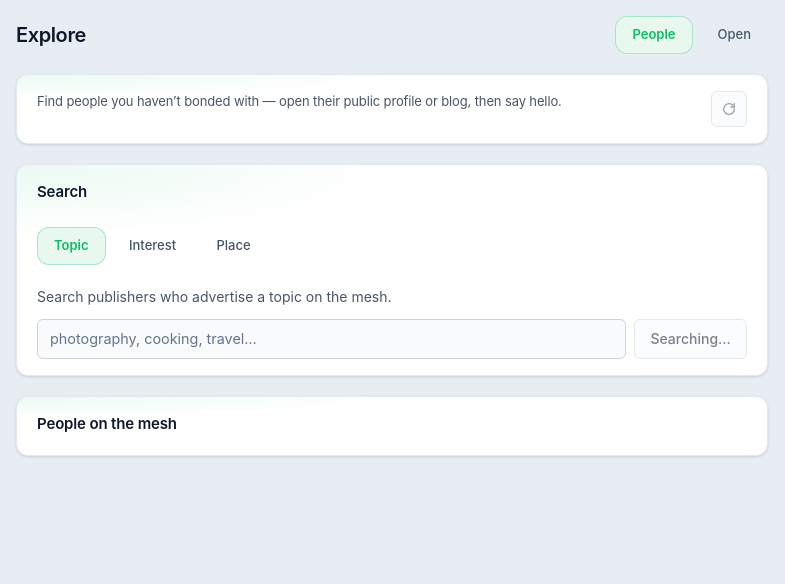
Test case: BrowserView › renders peer Feed index with Feed card chrome (not raw markdown)
Click the tab with test id "browser-mode-open": (734,35) [700, 16, 768, 54]
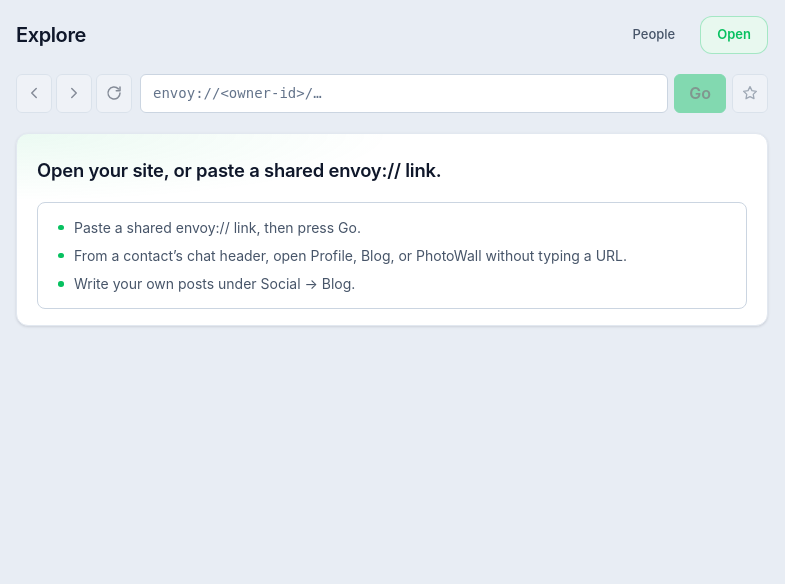
In the field with test id "browser-address-bar": (404,93) [140, 74, 668, 112], type "envoy://envoy:owner:abc123/feeds/"
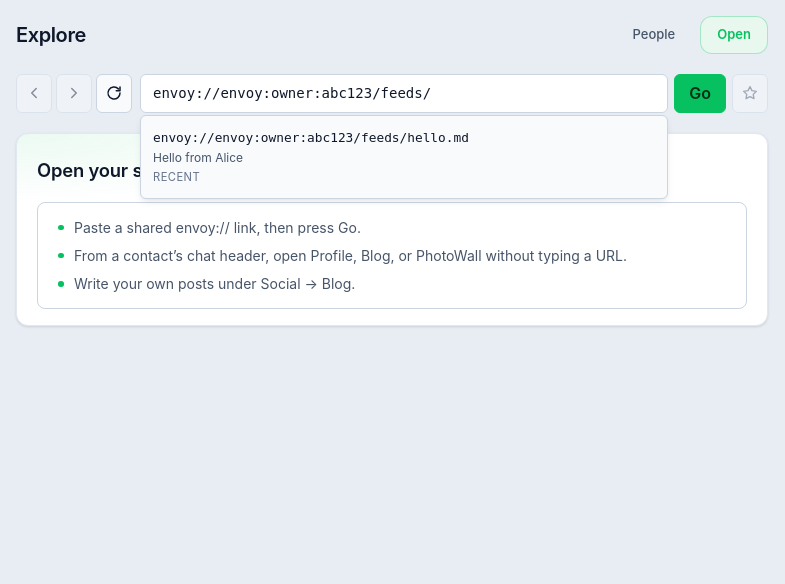
Click the button with test id "browser-go": (700,93) [674, 74, 726, 112]
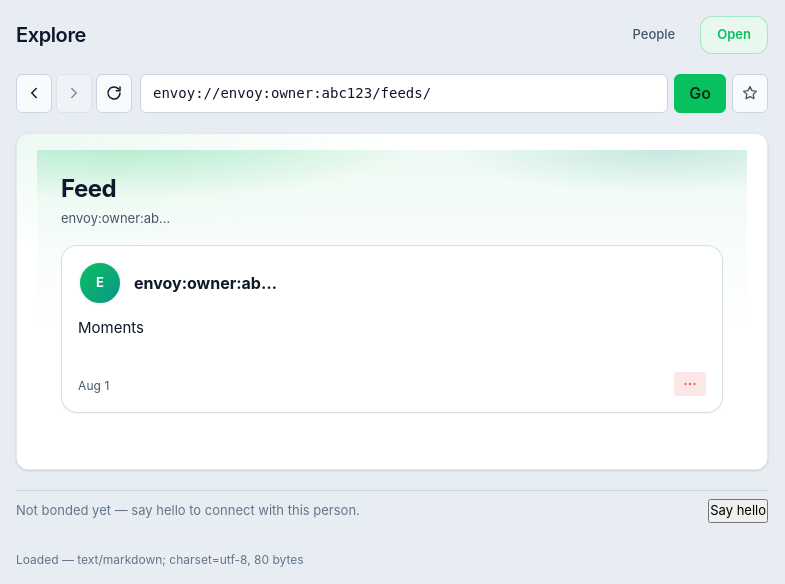
Now the element with test id "browser-peer-feed" is shown, box [37, 150, 747, 453]
Now the list with test id "browser-peer-feed-list" shows "Moments", box [62, 246, 722, 356]
